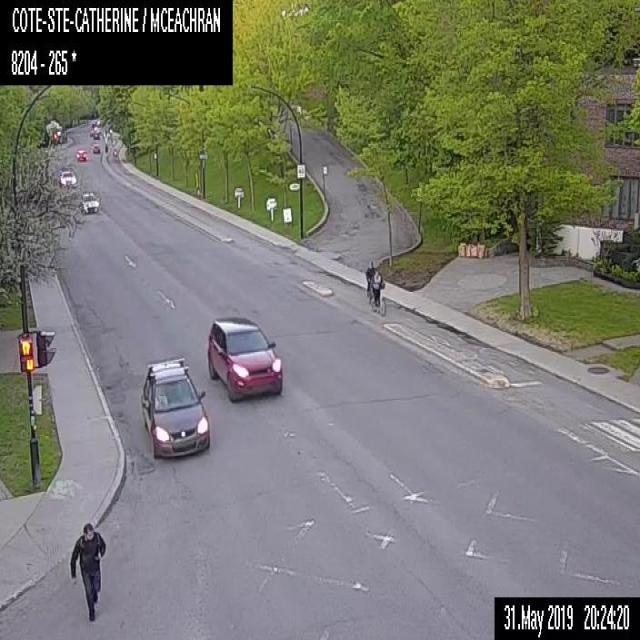cyclist: (364, 261, 386, 312)
pedestrian: (68, 522, 105, 618)
vehicle: (140, 356, 210, 461), (206, 316, 282, 403), (80, 191, 98, 212), (58, 168, 76, 187), (76, 148, 86, 160), (92, 144, 100, 152), (93, 132, 99, 138)
